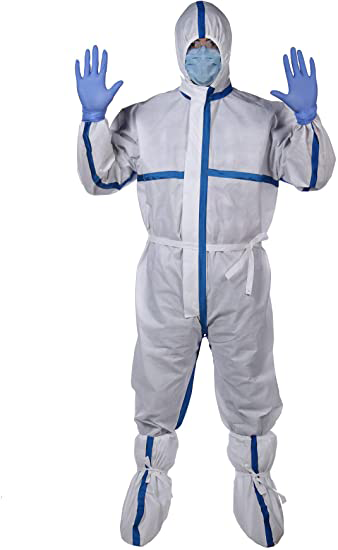Coverall: (72, 1, 331, 484)
Gloves: (269, 44, 325, 124), (72, 49, 124, 123)
Mask: (183, 35, 222, 87)
